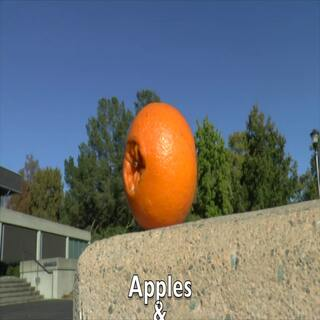orange: (104, 89, 209, 249)
